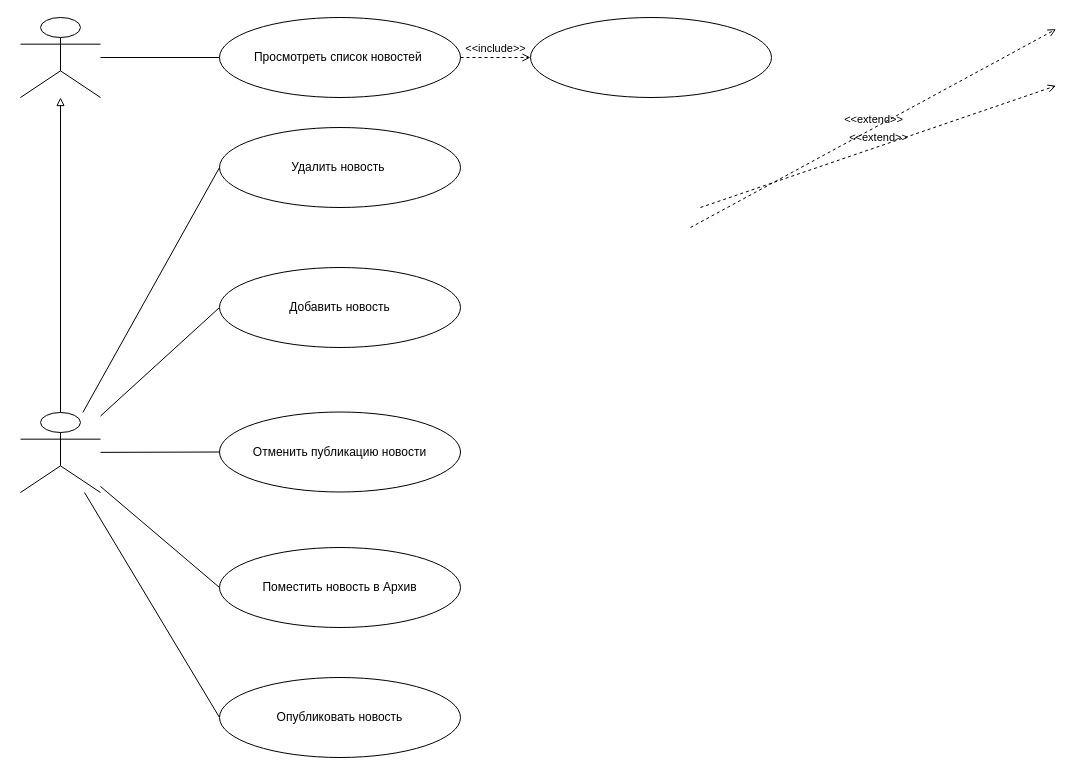
This 1082x775 diagram has some shape labels left out. Here are the shapes that lost their labels. From the top down, the centre of each, then its label:
At point 60,57: "Сотрудник".
At point 651,57: "Посмотреть новость детально".
At point 60,452: "Администратор".
